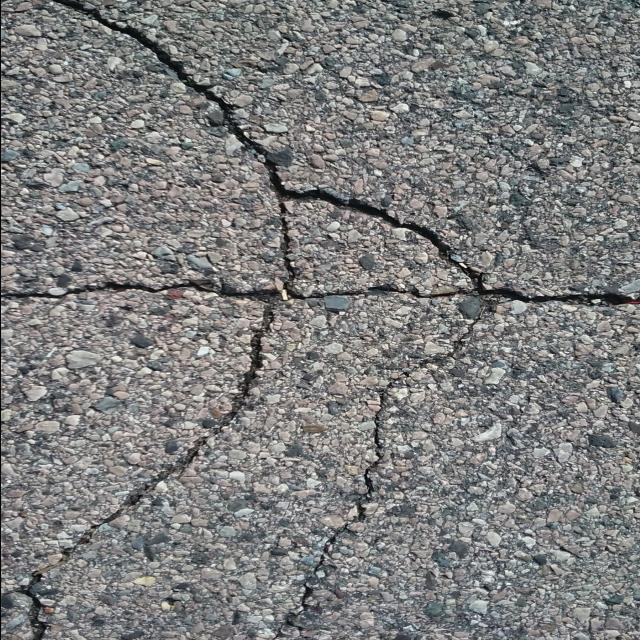Crack: (0, 0, 640, 640), (286, 199, 481, 292)
